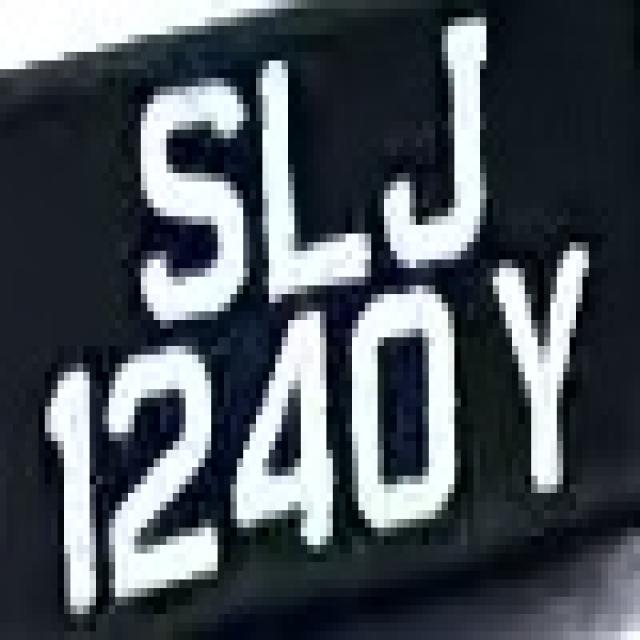0: (346, 294, 467, 545)
1: (26, 338, 115, 632)
2: (77, 320, 230, 597)
4: (205, 294, 365, 588)
J: (371, 9, 525, 294)
L: (236, 35, 378, 294)
S: (122, 52, 250, 337)
Y: (486, 251, 602, 519)
